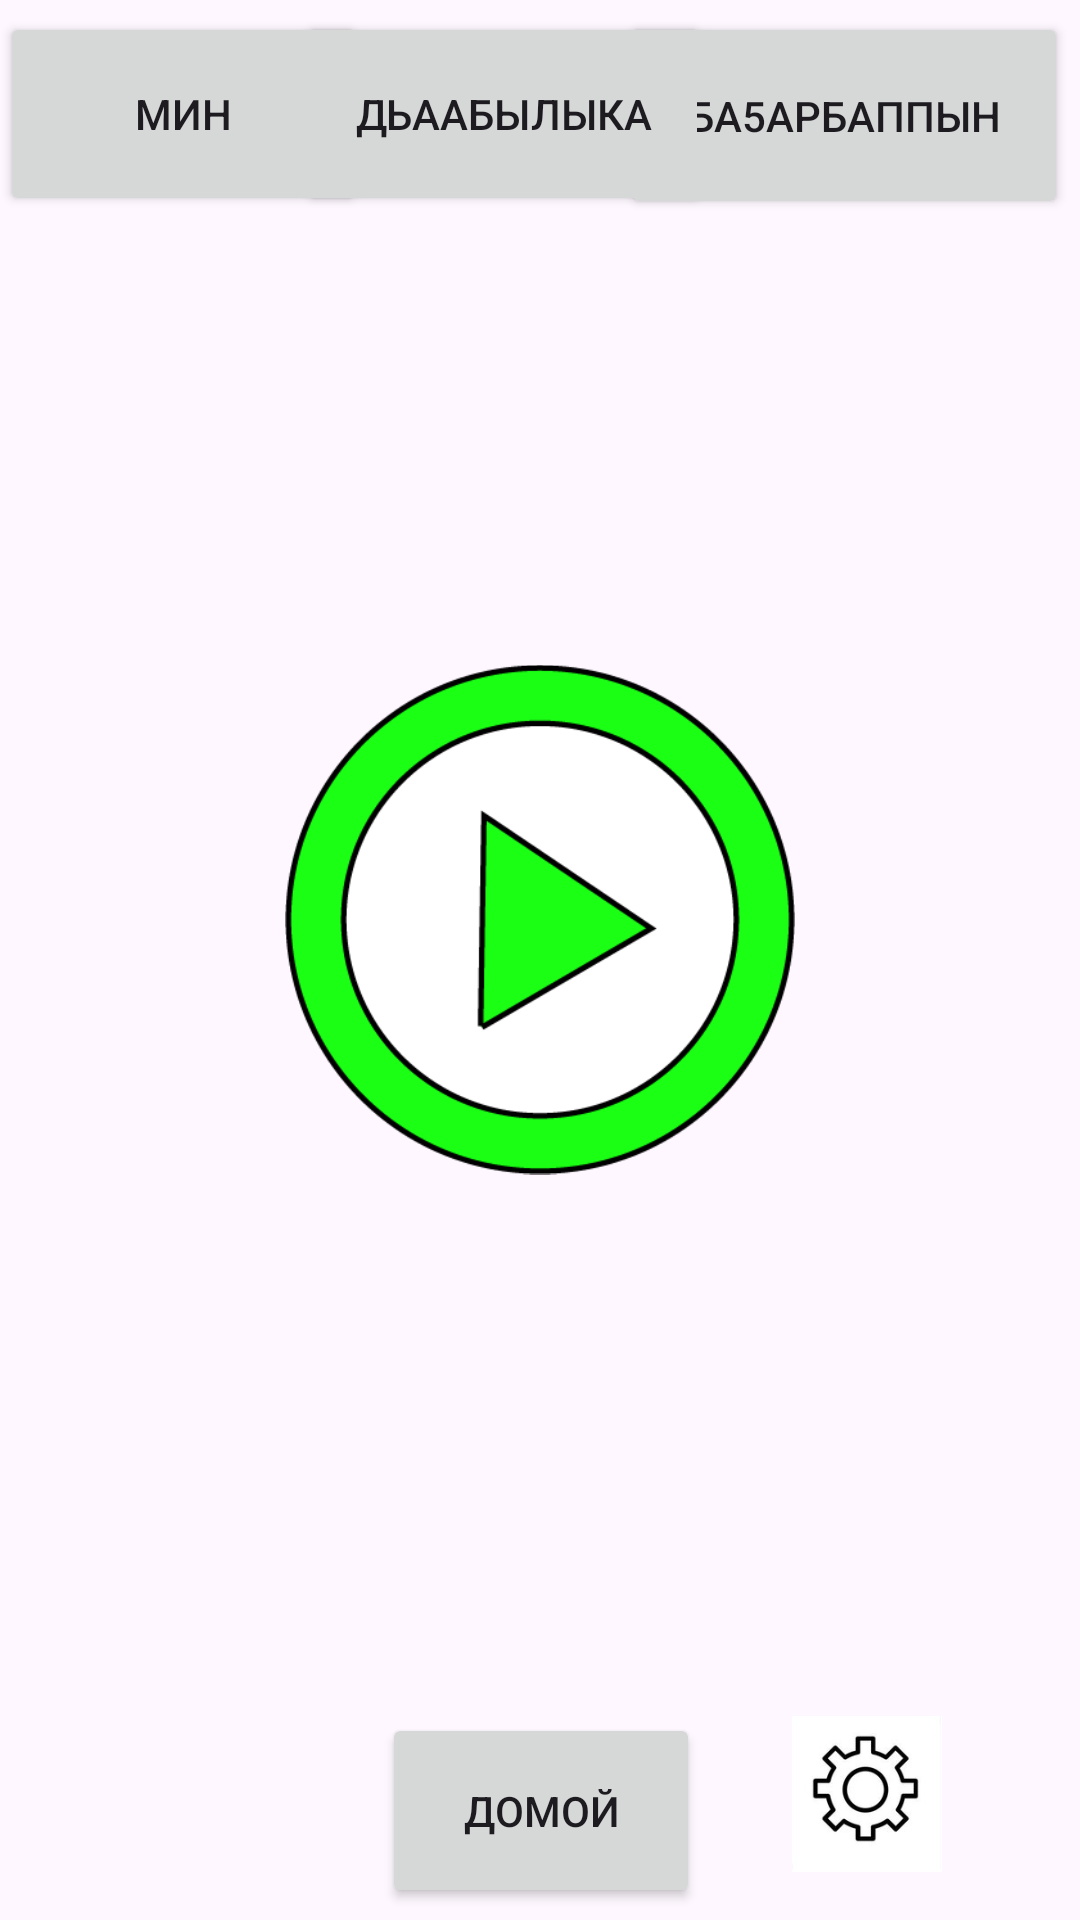

Icon bounding boxes for this 1080 × 1920 phone screenshot, format (x1, y1, x2, y2):
settings: (812, 1736, 919, 1842)
